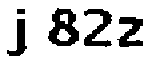2: (82, 8, 113, 51)
8: (43, 6, 81, 50)
j: (2, 6, 32, 58)
z: (115, 15, 147, 52)
